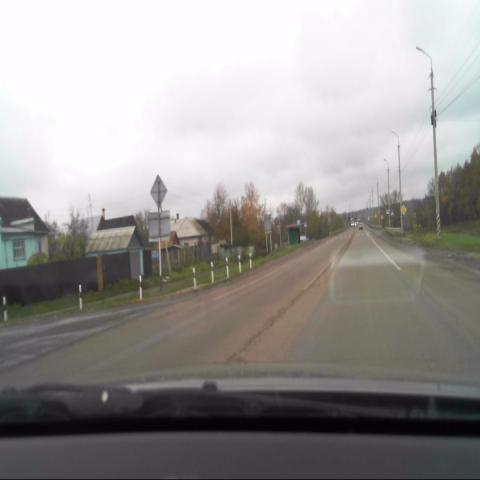2_1: (400, 203, 407, 216)
